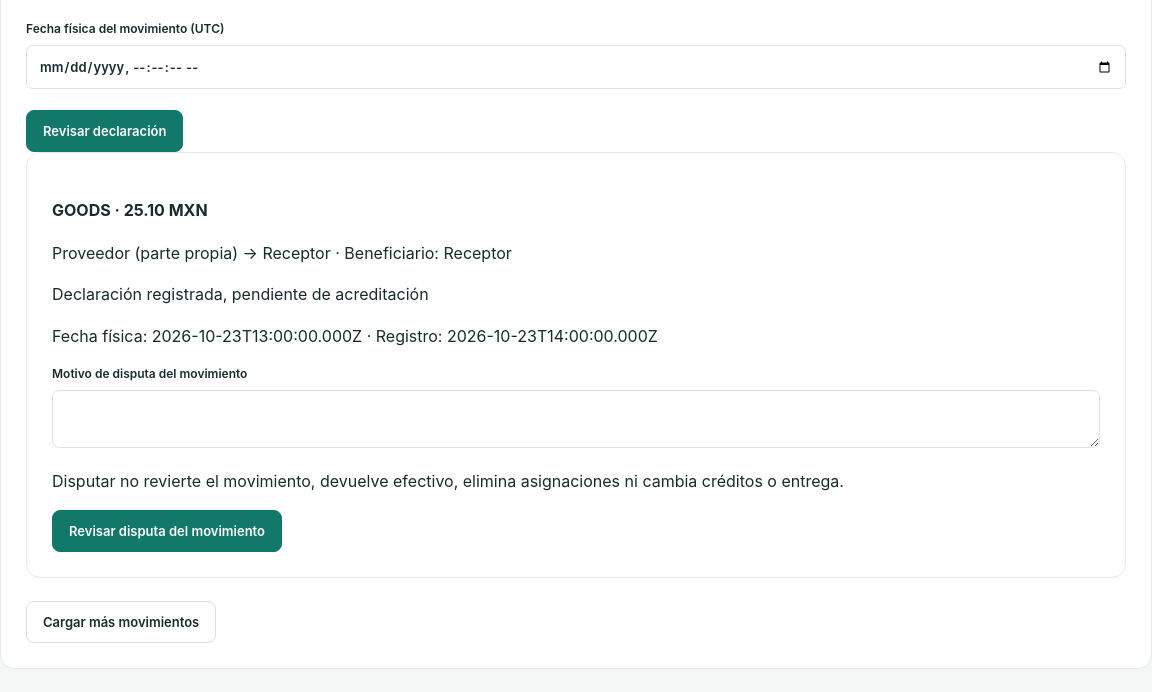
Test case: continues the initial opaque cursor by movement-context, deduplicates and uses fresh capabilities
(page scrolled)
Click the button "Cargar más movimientos": [121, 622] box [26, 601, 216, 643]
(page scrolled)
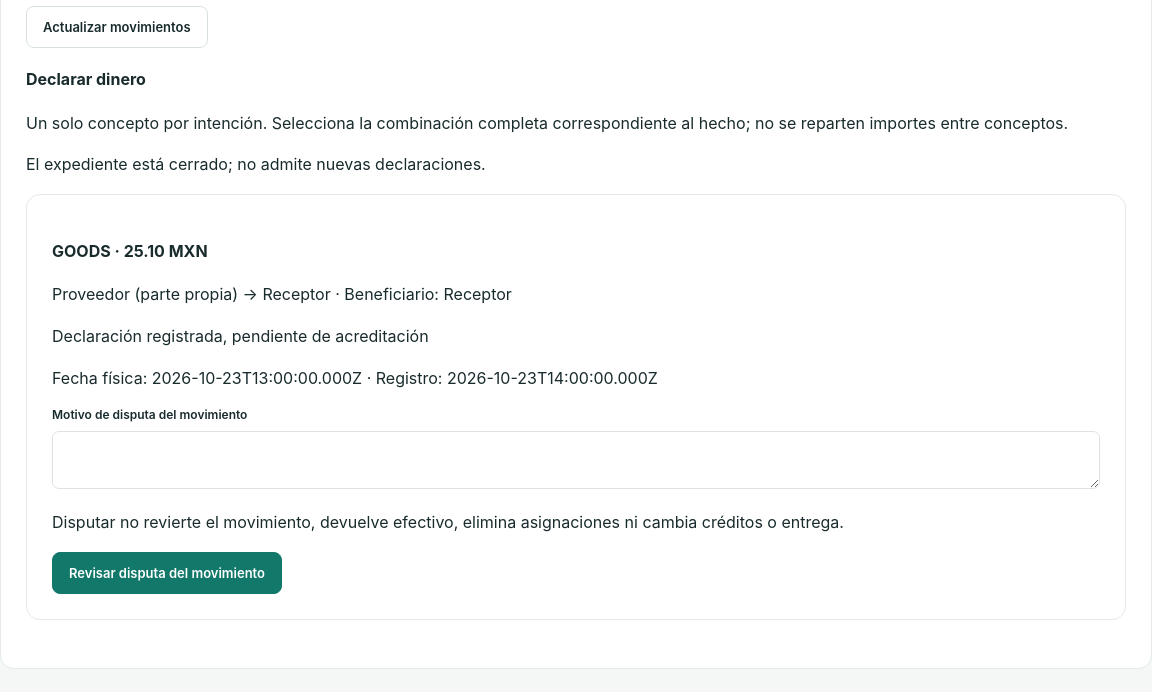
Now the text "Declaración registrada, pendiente de acreditación" is shown once, box [52, 326, 429, 346]
